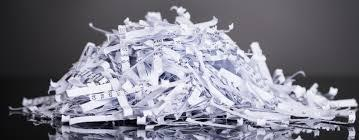Paper shavings: (19, 11, 359, 138)
